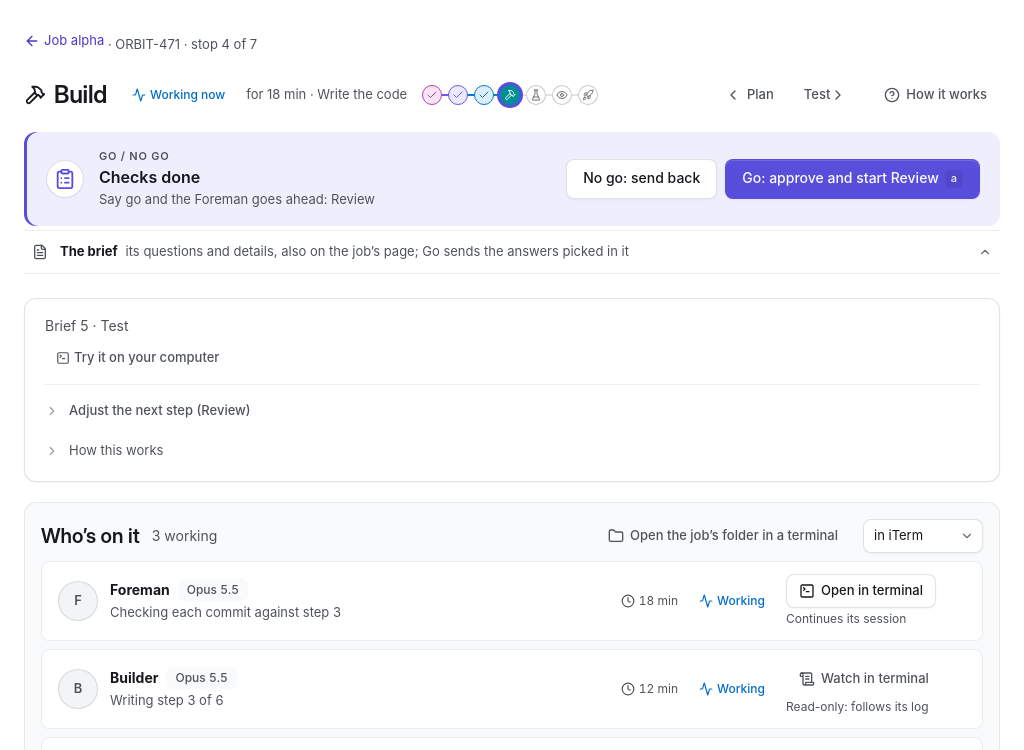
Test: the Stage › Full: the brief starts open on a stop’s page
The width and height of the screenshot is (1024, 750).
Expected: the element with class "job-gate-body" is shown, x1=24 y1=286 x2=1000 y2=482
Click the button "The brief".
click(512, 252)  # box x1=24 y1=230 x2=1000 y2=274
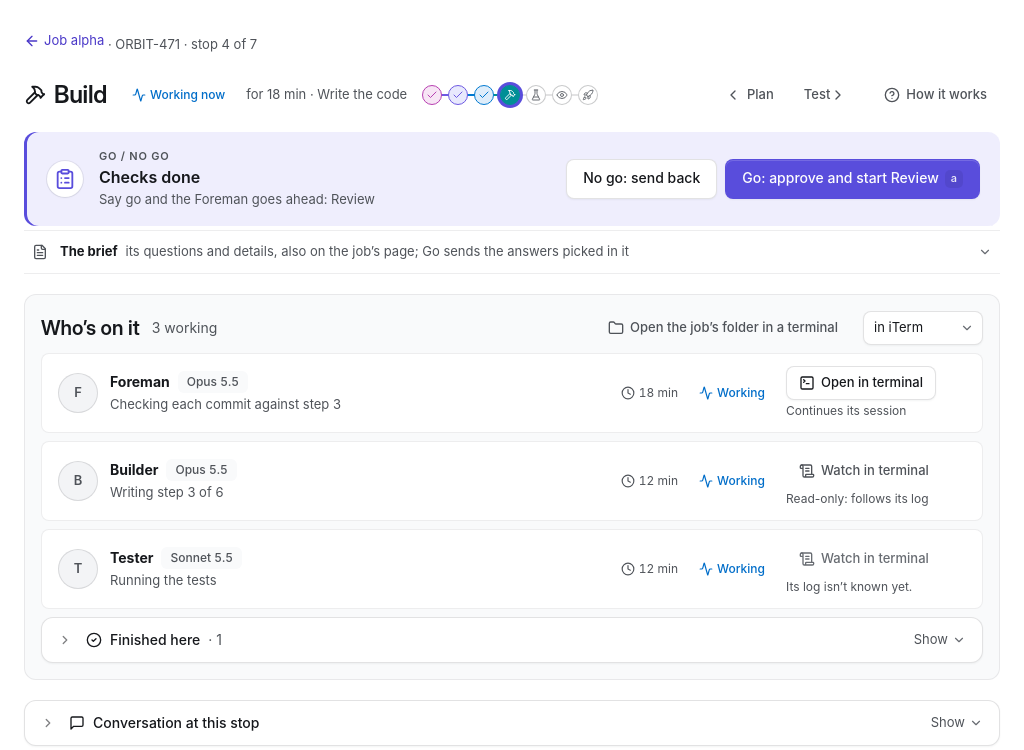
Expected: the button "The brief" is collapsed, x1=24 y1=230 x2=1000 y2=274
Expected: the element with class "job-gate-body" is gone
